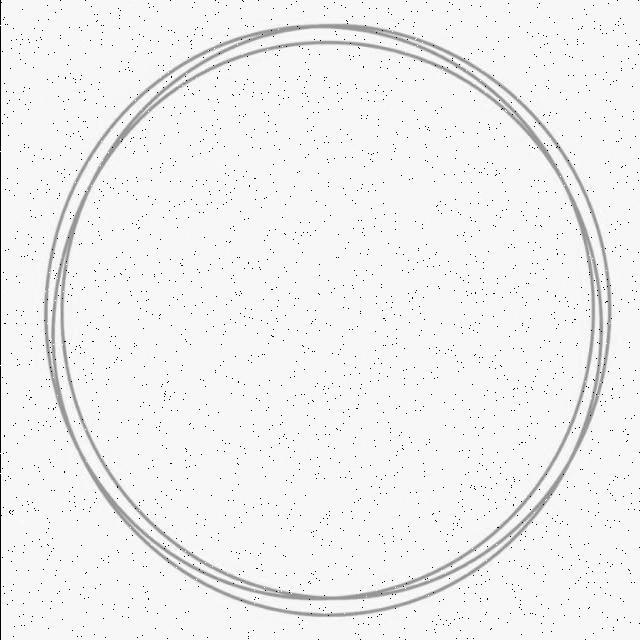Circle: (40, 17, 613, 618)
